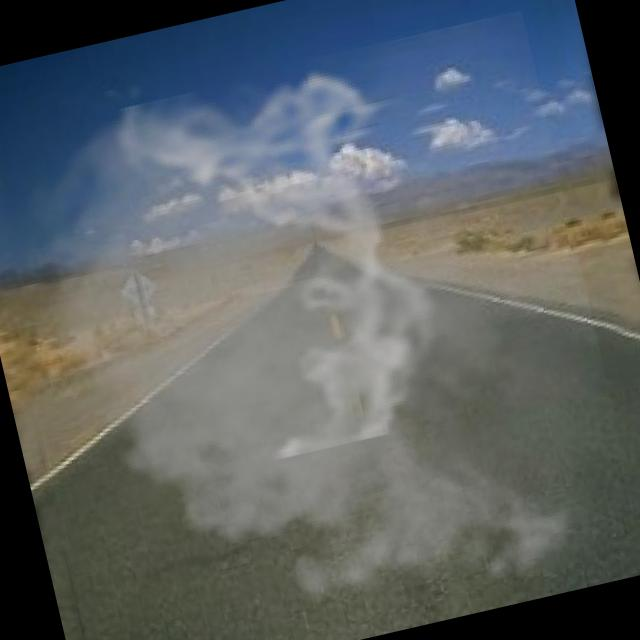Smoke: (0, 10, 640, 640)
